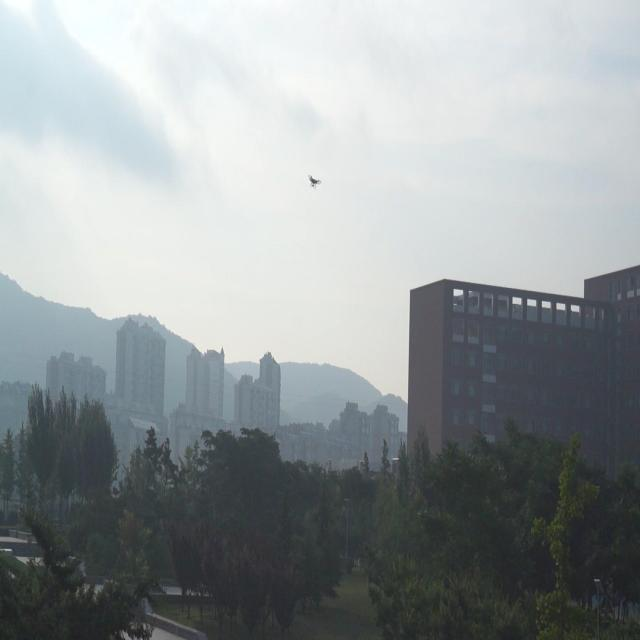drone: (306, 172, 324, 192)
